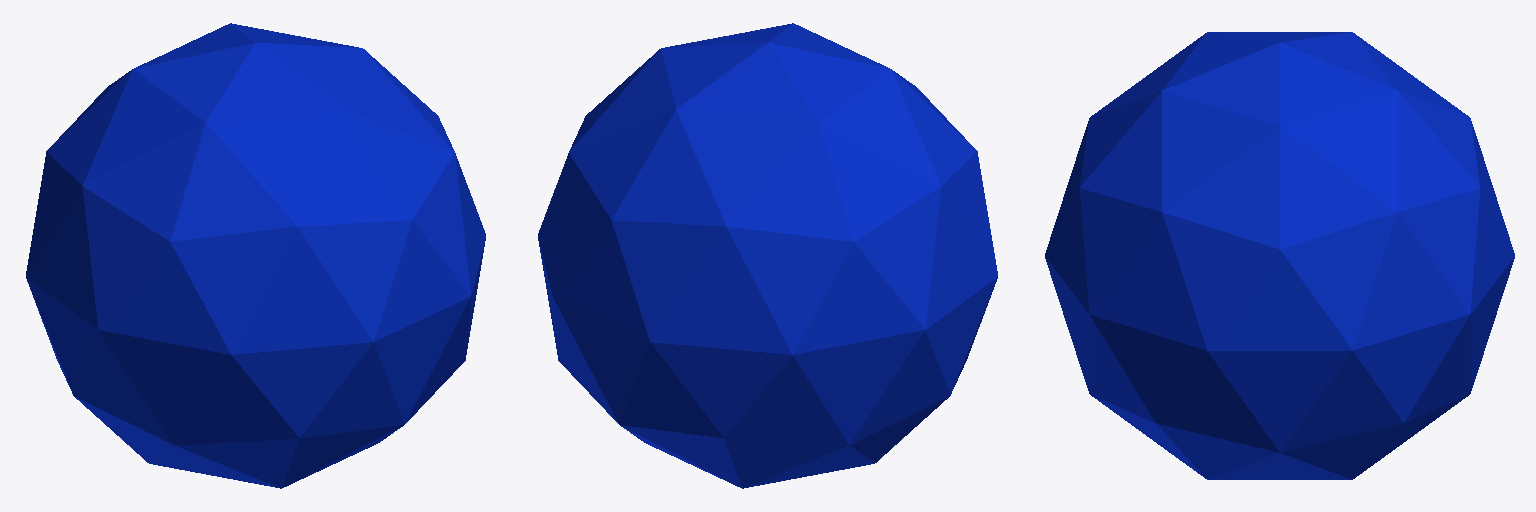
File: modra_zadeva.obj
The picture shows the model from 3 angles: view 1: azimuth 30°, elevation 25°; view 2: azimuth 150°, elevation 25°; view 3: azimuth 270°, elevation 25°; orthographic projection.
Parts seen in each view (by area): view 1: Icosphere; view 2: Icosphere; view 3: Icosphere.
Boxes of the visible parts, box(x1,y1,x2,y2) form: Icosphere: box(26, 23, 485, 488); Icosphere: box(538, 23, 997, 488); Icosphere: box(1045, 32, 1514, 479).
Bounding box in the file's own units: 4.78 × 5.03 × 5.03.